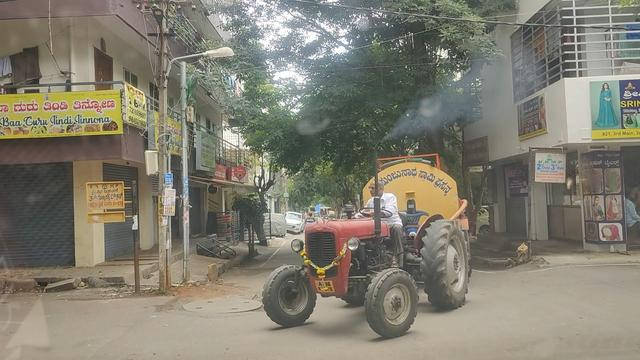HMV: (250, 150, 488, 339)
RoadDamages: (171, 278, 266, 328)
